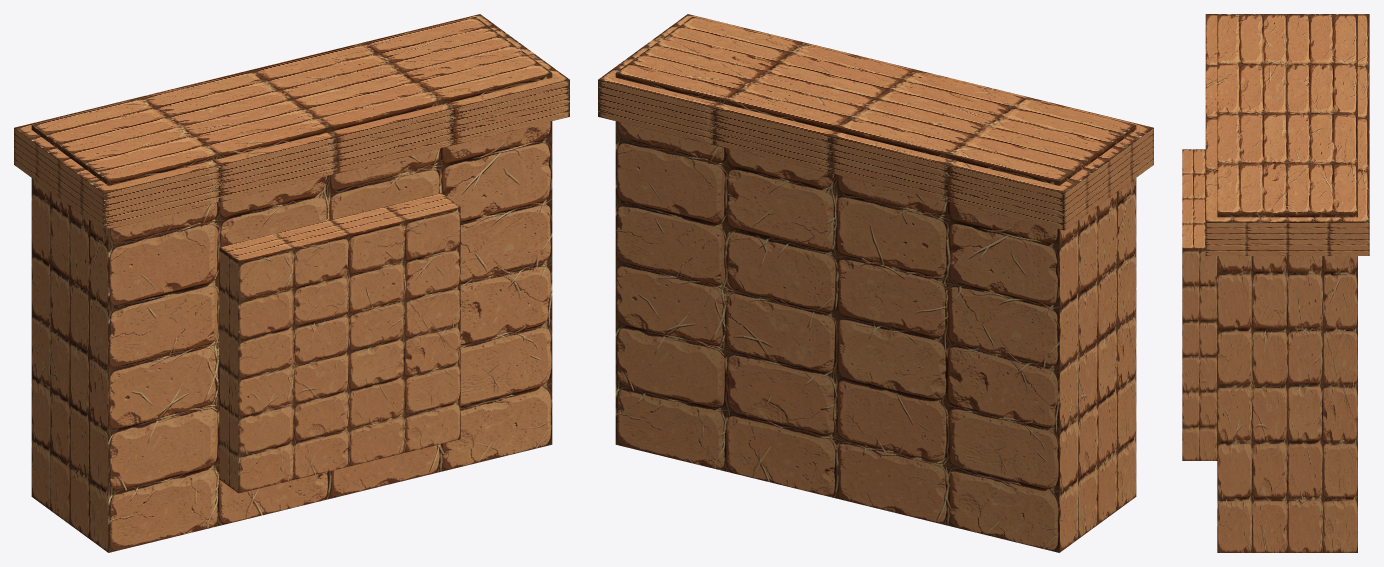
Rendered from iron_ore_mine.obj.
3 views of the same model, side by side, from view 1: azimuth 30°, elevation 25°; view 2: azimuth 150°, elevation 25°; view 3: azimuth 270°, elevation 25° (orthographic). The views are drawn at different scales.
Visible parts, largest first — view 1: building; view 2: building; view 3: building.
Part boxes in pixels (x1,y1,x2,y2): building: (14,14,569,552); building: (598,14,1153,552); building: (1182,14,1369,552).
Bounding box in the file's own units: 2.1 × 1.6 × 0.8.
